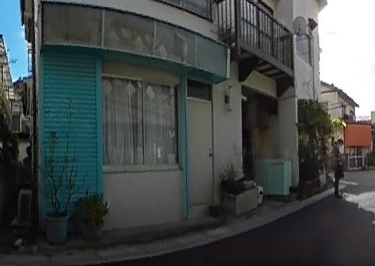person: (331, 136, 345, 199)
